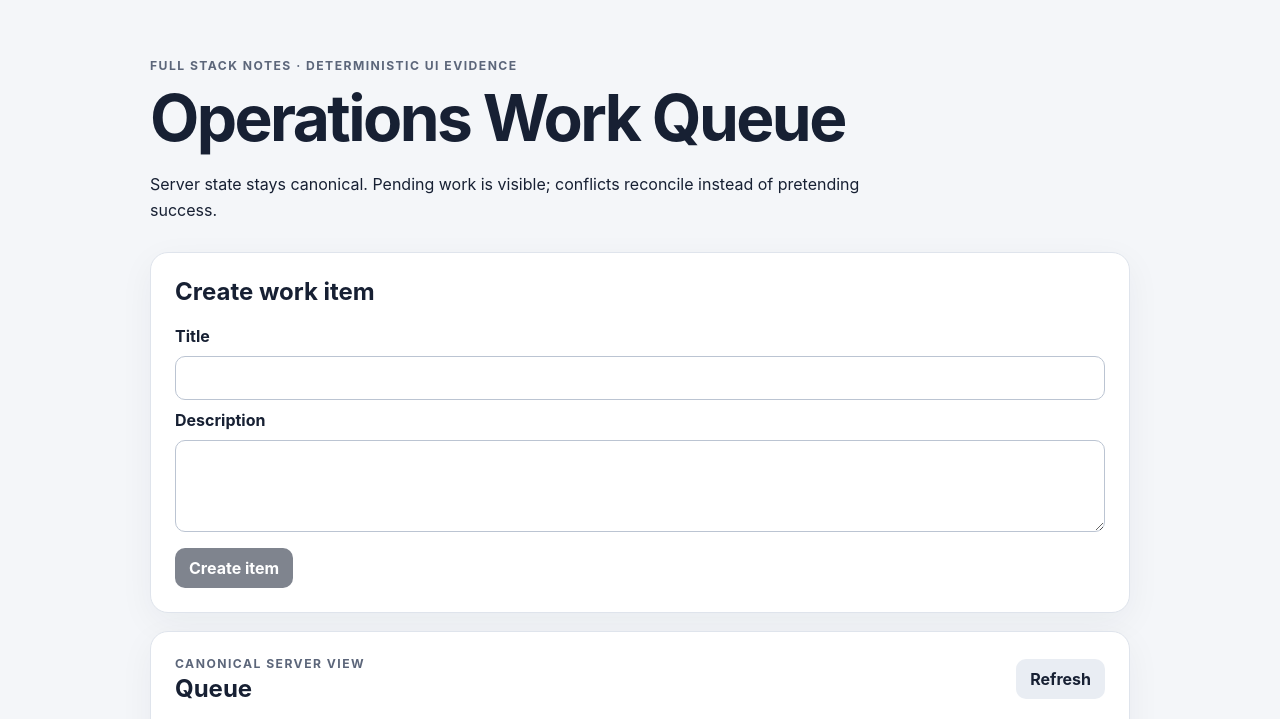
Test: failed create shows pending state but never inserts a false confirmed item
Type "Draft task" into the field labelled "Title" at coordinates (640, 378), box [175,356,1105,400]
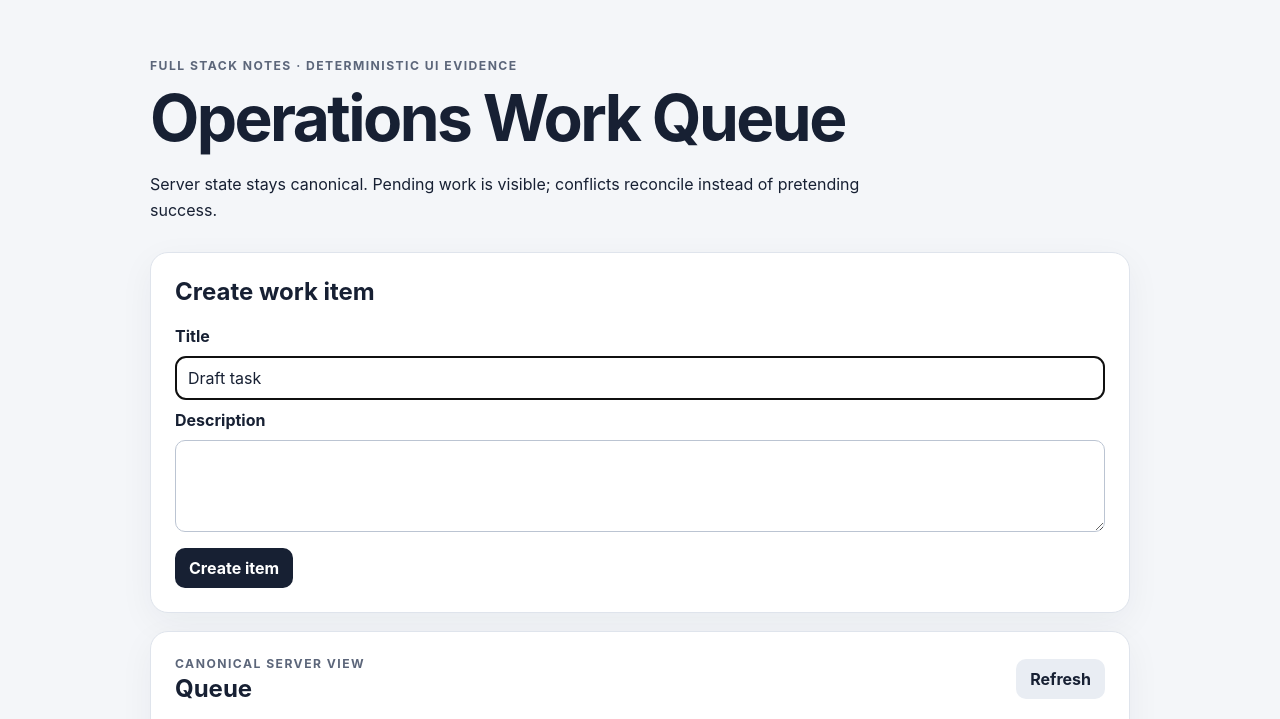
Press Enter
(page scrolled)
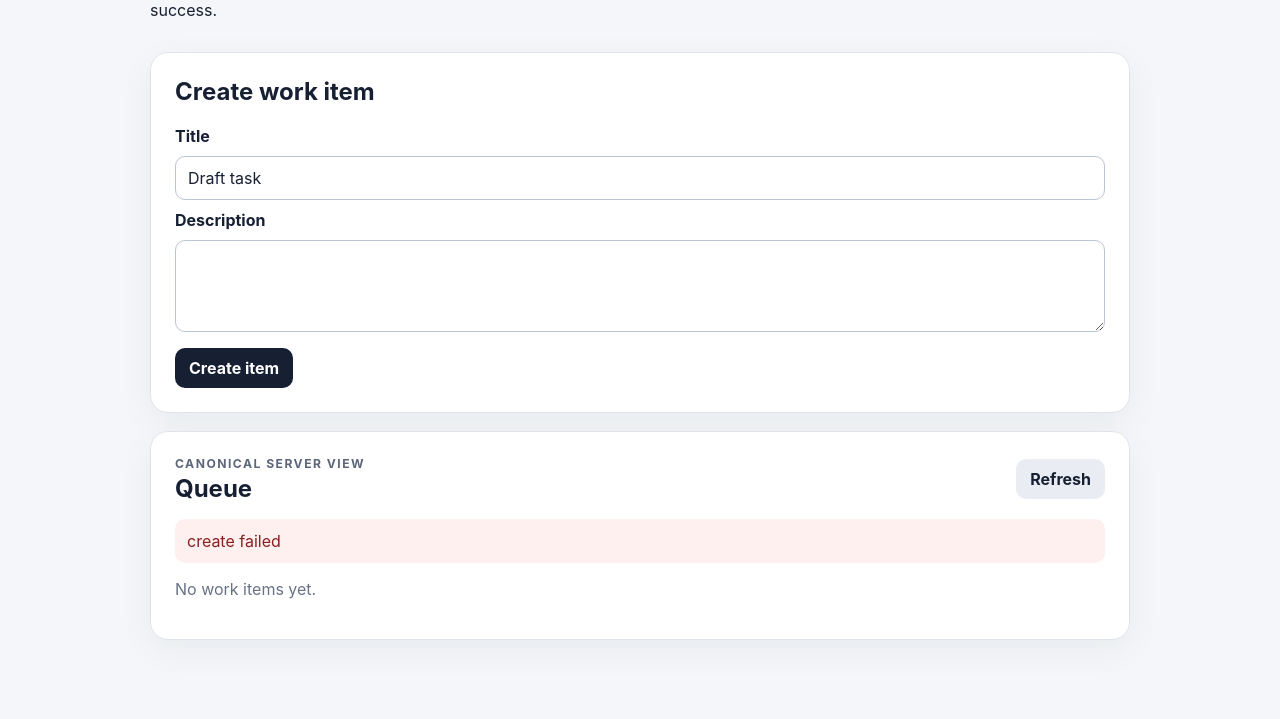
Expected: the button named "Creating…" is shown, [175,348,293,388]
Expected: the message "create failed" is shown, [175,518,1105,562]
